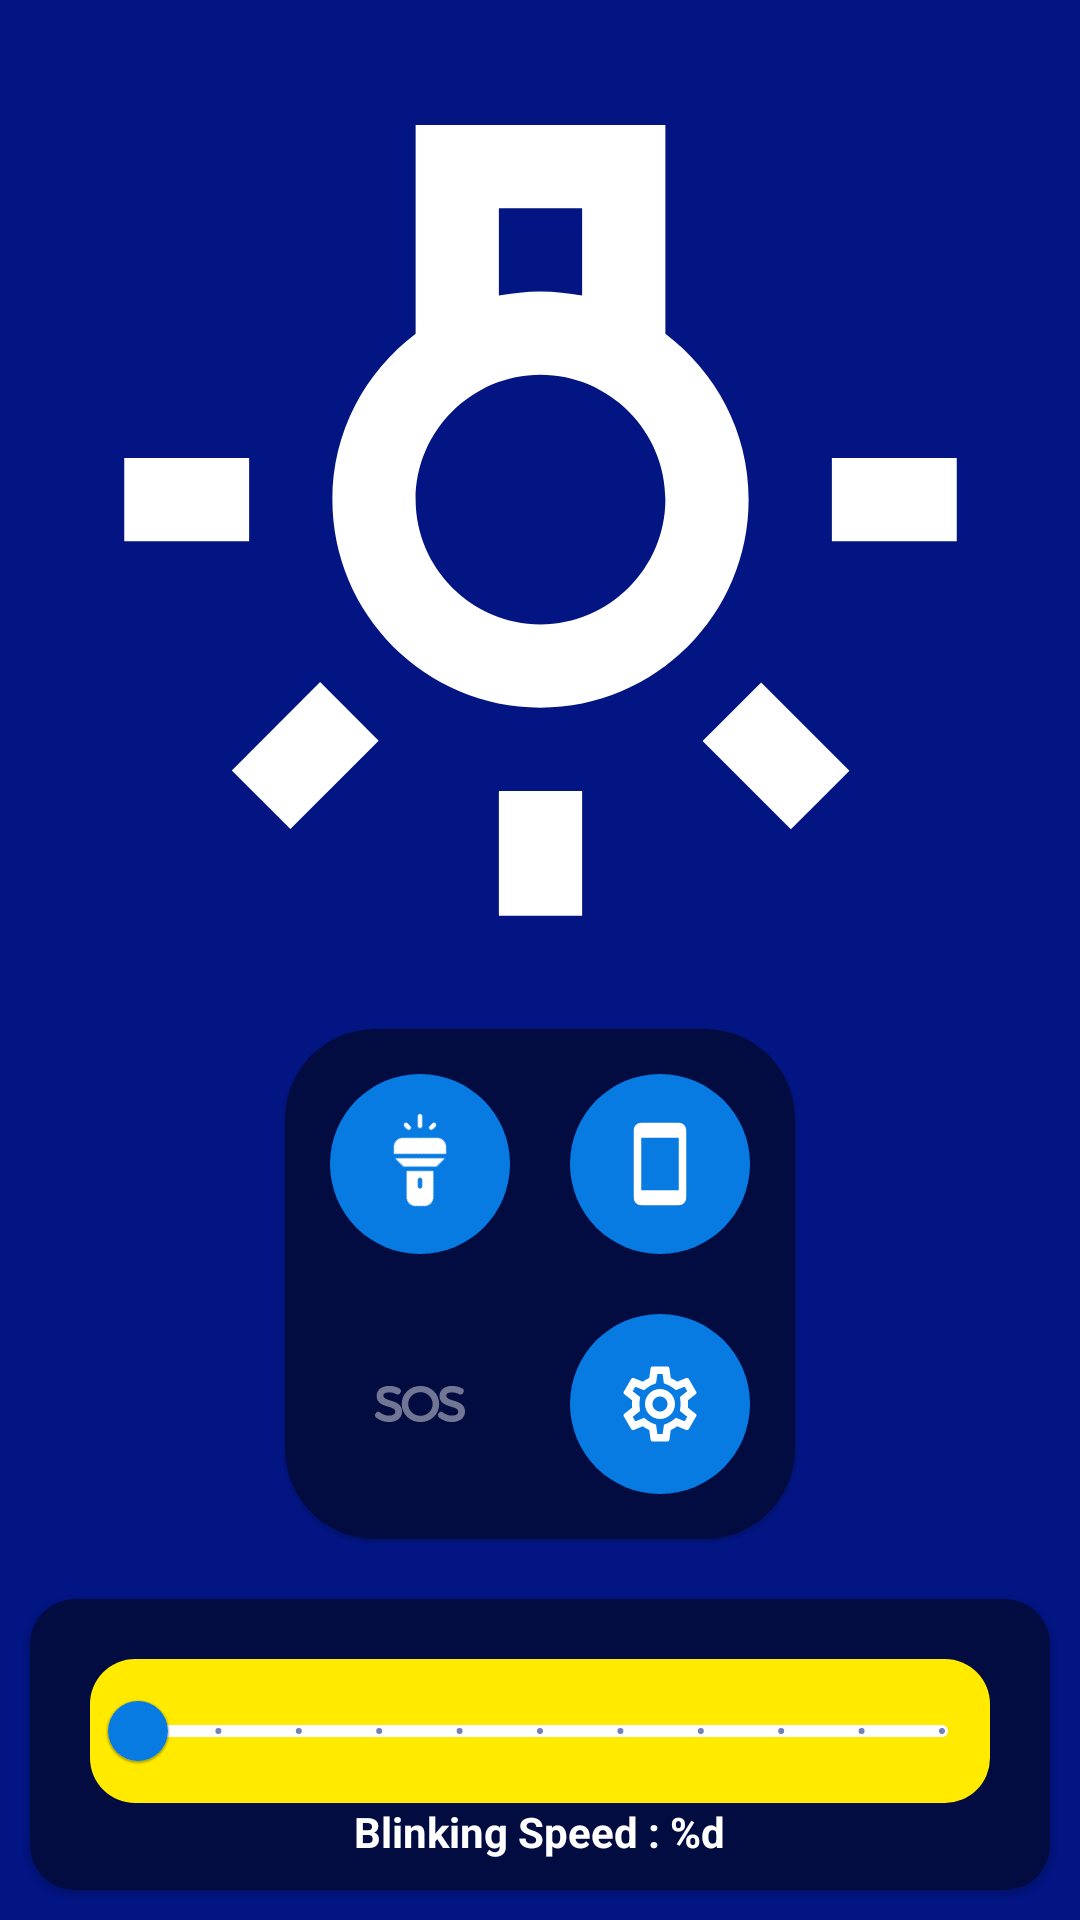

Icons on this 1080w x 1920h Android screen, each with its box as bbox(x1, y1, x2, y2):
device: bbox(570, 1074, 750, 1254)
